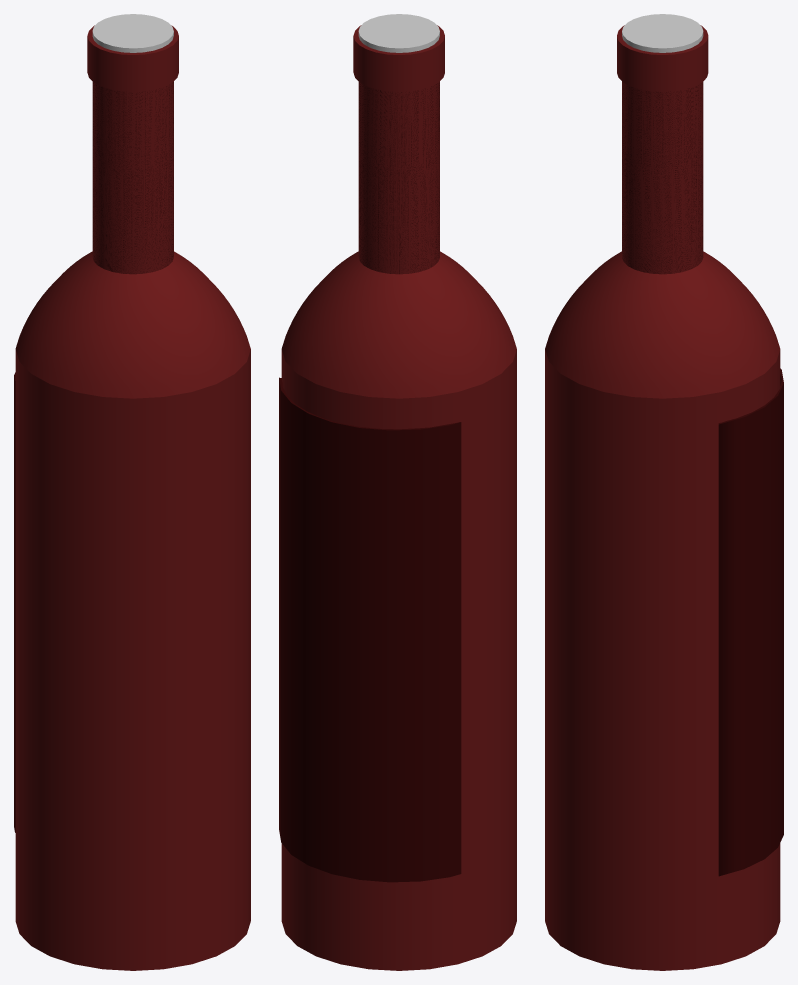
3 views of the same model, side by side, from view 1: azimuth 30°, elevation 25°; view 2: azimuth 150°, elevation 25°; view 3: azimuth 270°, elevation 25° (orthographic).
Parts seen in each view (by area): view 1: mesh1_mesh1-geometry, mesh3_mesh3-geometry, mesh5_mesh5-geometry; view 2: mesh1_mesh1-geometry, mesh5_mesh5-geometry, mesh3_mesh3-geometry; view 3: mesh1_mesh1-geometry, mesh5_mesh5-geometry, mesh3_mesh3-geometry.
Boxes of the visible parts, x1=… form: mesh1_mesh1-geometry: x1=15, y1=25, x2=250, y2=970; mesh3_mesh3-geometry: x1=92, y1=14, x2=173, y2=52; mesh5_mesh5-geometry: x1=14, y1=372, x2=15, y2=832; mesh1_mesh1-geometry: x1=281, y1=25, x2=516, y2=970; mesh5_mesh5-geometry: x1=279, y1=377, x2=461, y2=882; mesh3_mesh3-geometry: x1=358, y1=14, x2=439, y2=52; mesh1_mesh1-geometry: x1=545, y1=25, x2=780, y2=970; mesh5_mesh5-geometry: x1=718, y1=368, x2=783, y2=876; mesh3_mesh3-geometry: x1=622, y1=14, x2=703, y2=52.
Bounding box in the file's own units: 0.2268 × 0.9463 × 0.2303.
